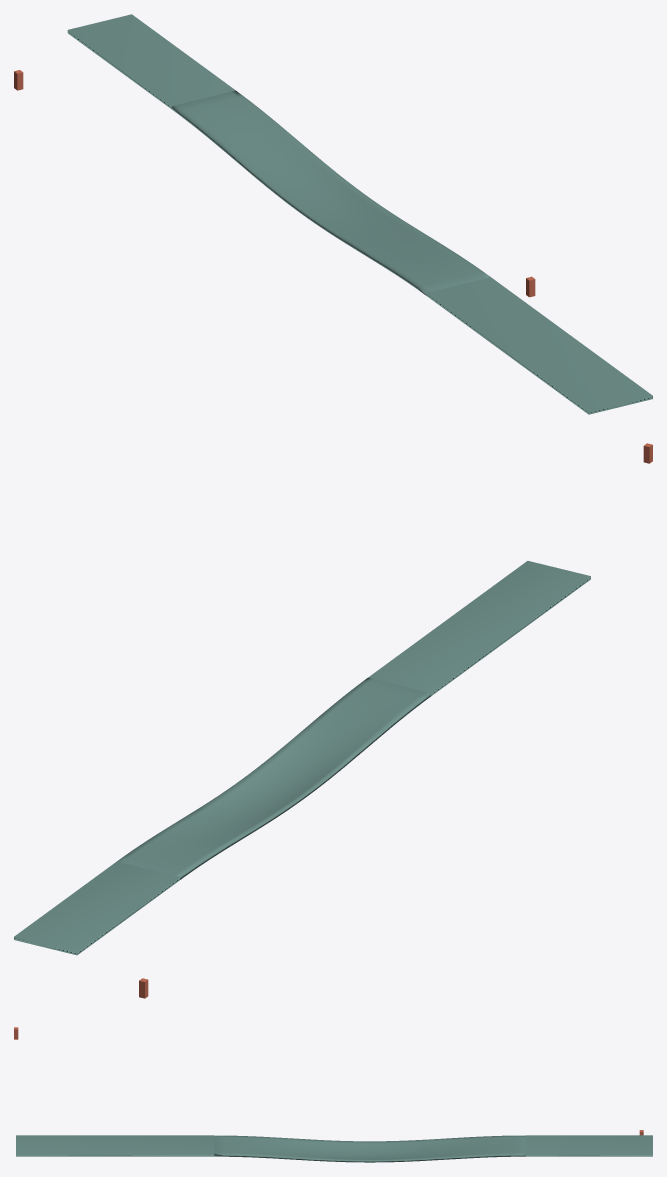
Rendered from neutral-bowl.glb.
3 renders of one model, top to bottom at view 1: azimuth 30°, elevation 25°; view 2: azimuth 150°, elevation 25°; view 3: azimuth 270°, elevation 25°, orthographic. The views are drawn at different scales.
Visible parts, largest first — view 1: study-deck-render, runout-deck-render, approach-deck-render; view 2: study-deck-render, runout-deck-render, approach-deck-render; view 3: study-deck-render, runout-deck-render, approach-deck-render.
Part boxes in pixels (x1,y1,x2,y2): study-deck-render: [172, 90, 490, 295]; runout-deck-render: [426, 277, 652, 414]; approach-deck-render: [67, 14, 235, 109]; study-deck-render: [117, 678, 430, 879]; runout-deck-render: [368, 561, 590, 696]; approach-deck-render: [14, 861, 179, 955]; study-deck-render: [214, 1135, 525, 1162]; runout-deck-render: [16, 1135, 214, 1156]; approach-deck-render: [525, 1135, 652, 1156].
Size of what is drawn, in the model's own units: 62.5 by 88 by 452.
